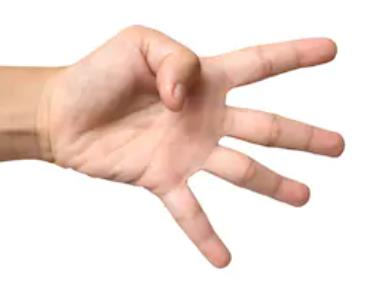right: (50, 21, 347, 272)
